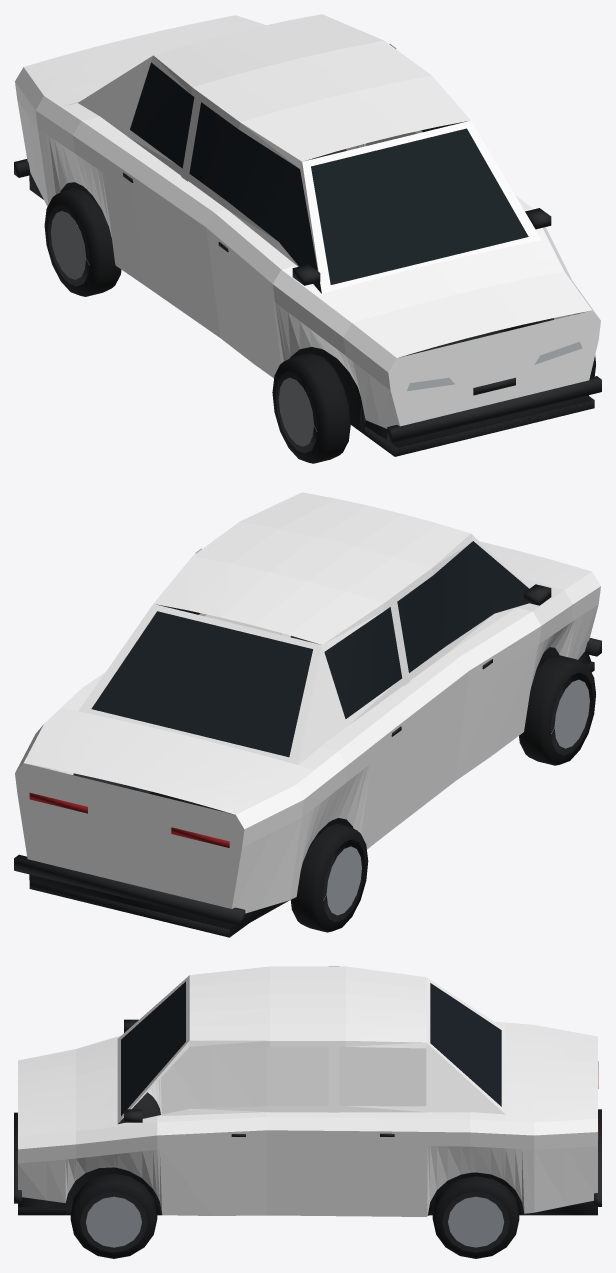
The model's file is garrison_ciranda.glb.
3 views of the same model, one above another, from view 1: azimuth 30°, elevation 25°; view 2: azimuth 150°, elevation 25°; view 3: azimuth 270°, elevation 25° (orthographic). The views are drawn at different scales.
Visible parts, largest first — view 1: Body_Paint, Body_Details, Mount_FrontLeft_Wheel_Details, Mount_RearLeft_Wheel_Details; view 2: Body_Paint, Body_Details, Mount_FrontLeft_Wheel_Details, Mount_RearLeft_Wheel_Details; view 3: Body_Paint, Body_Details, Mount_FrontRight_Wheel_Details, Mount_RearRight_Wheel_Details.
Part boxes in pixels (<box>): Body_Paint: <box>15,14,600,428</box>; Body_Details: <box>14,62,601,456</box>; Mount_FrontLeft_Wheel_Details: <box>272,353,350,463</box>; Mount_RearLeft_Wheel_Details: <box>44,187,121,296</box>; Body_Paint: <box>15,492,600,913</box>; Body_Details: <box>14,541,601,937</box>; Mount_FrontLeft_Wheel_Details: <box>519,655,595,765</box>; Mount_RearLeft_Wheel_Details: <box>290,823,368,932</box>; Body_Paint: <box>18,966,597,1216</box>; Body_Details: <box>14,981,601,1215</box>; Mount_FrontRight_Wheel_Details: <box>70,1173,157,1258</box>; Mount_RearRight_Wheel_Details: <box>432,1176,519,1258</box>.
Bounding box in the file's own units: 1.75 × 1.58 × 4.07.
Materials: 2 (1 with a texture image).
